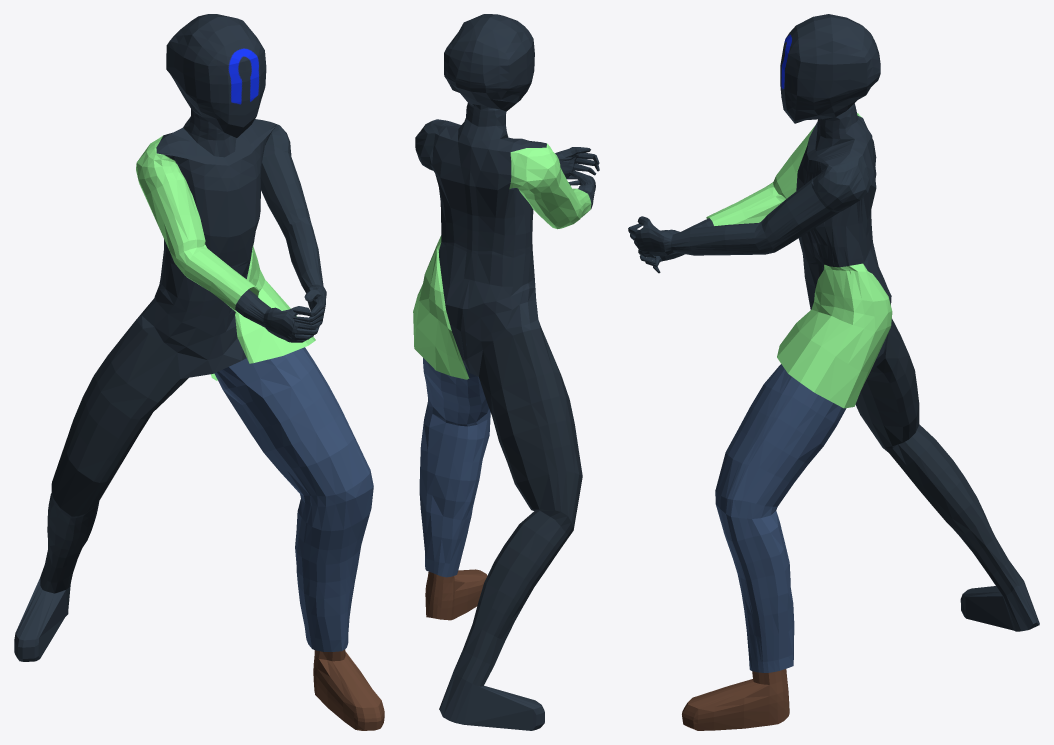
Rendered from Mar_WL_000021.obj.
The picture shows the model from 3 angles, left to right: view 1: azimuth 30°, elevation 25°; view 2: azimuth 150°, elevation 25°; view 3: azimuth 270°, elevation 25°; orthographic projection. The views are drawn at different scales.
Visible parts, largest first — view 1: Cube.000_Cube.001; view 2: Cube.000_Cube.001; view 3: Cube.000_Cube.001.
Boxes of the visible parts, x1,y1,x2,y2 form: Cube.000_Cube.001: [14, 14, 384, 730]; Cube.000_Cube.001: [413, 14, 599, 730]; Cube.000_Cube.001: [628, 14, 1039, 730].
Bounding box in the file's own units: 1.35 × 3.73 × 2.08.
